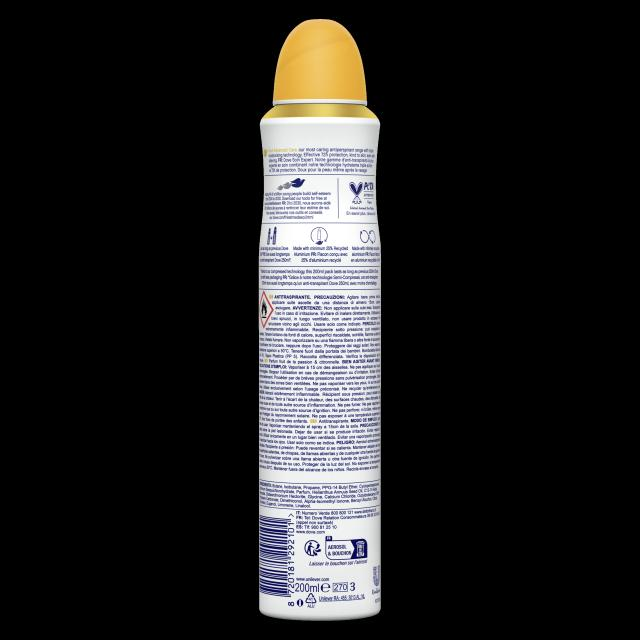GHS_Symbol_FLAME: (259, 291, 274, 328)
